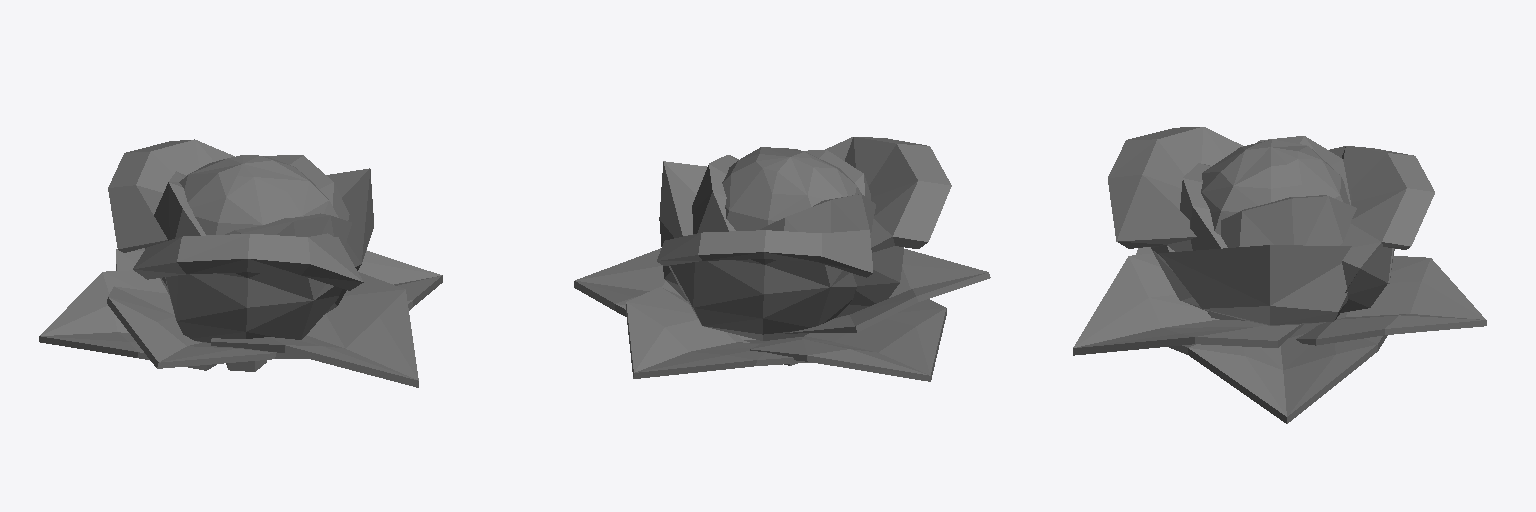
File: cabbage.obj
The picture shows the model from 3 angles: view 1: azimuth 30°, elevation 25°; view 2: azimuth 150°, elevation 25°; view 3: azimuth 270°, elevation 25°; orthographic projection.
Size of the model in its own units: 0.871 by 0.438 by 0.8224.